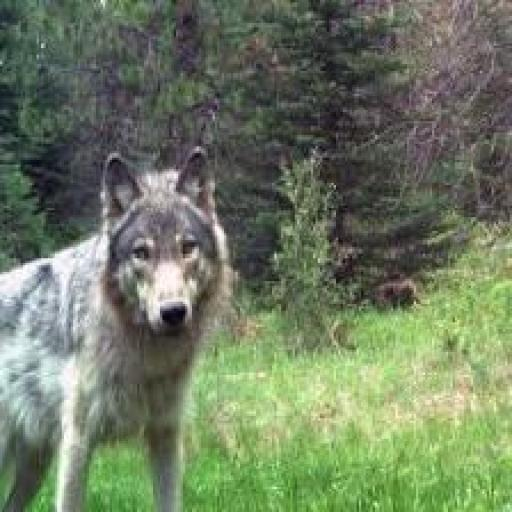wolf: (0, 137, 246, 512)
